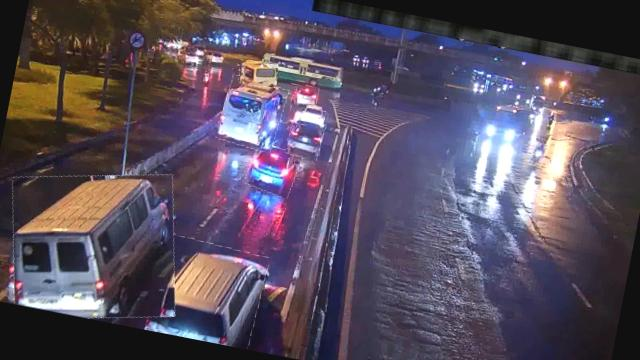Bike: (529, 141, 547, 167)
Bus: (0, 153, 193, 332), (215, 74, 288, 153), (237, 57, 280, 90)
Car: (144, 232, 270, 349), (245, 140, 302, 198), (285, 116, 326, 160), (288, 103, 326, 128), (288, 82, 318, 108)
